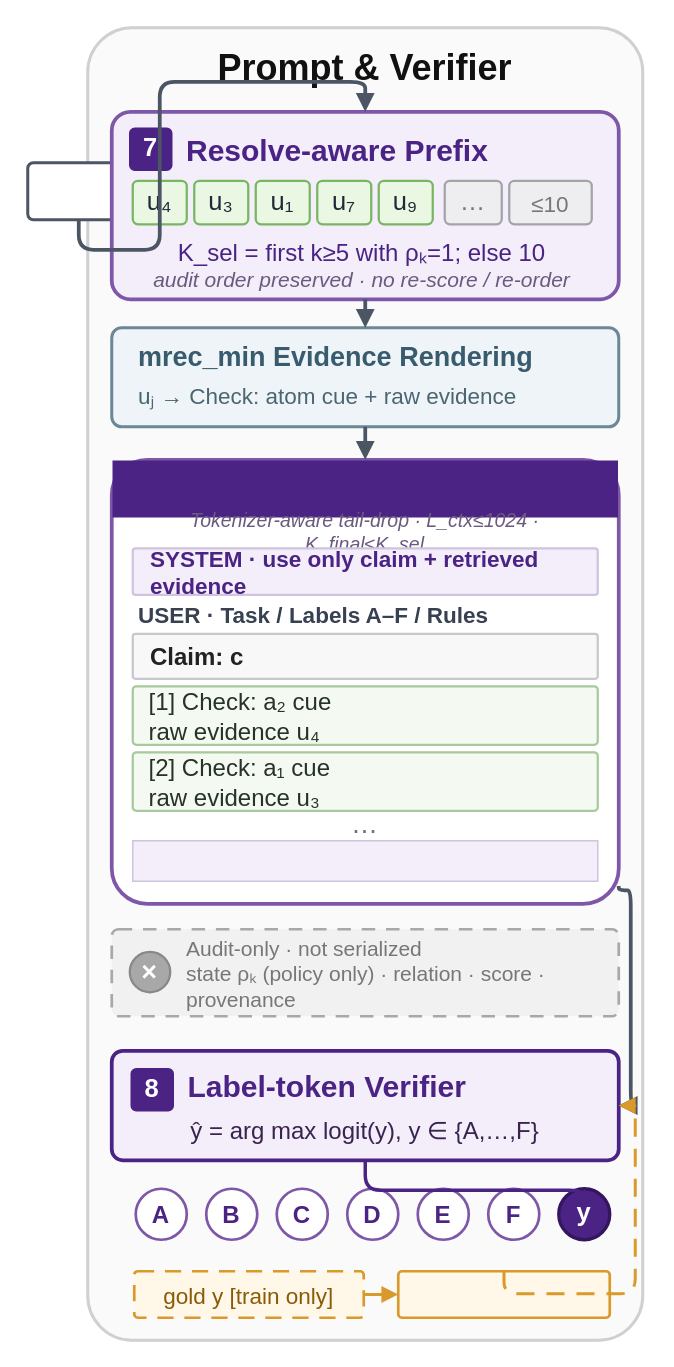
Image size: 674x1367. Some labels were removed from this diagram. Here are the shapes that lost their labels. From the top down, the box of each, then its label:
(26, 160, 130, 220): Tᵃᵘᵈⁱᵗ
(112, 460, 617, 517): Verifier-visible Prompt
(131, 839, 598, 881): ASSISTANT · Label:
(396, 1269, 610, 1318): CE on next label token
